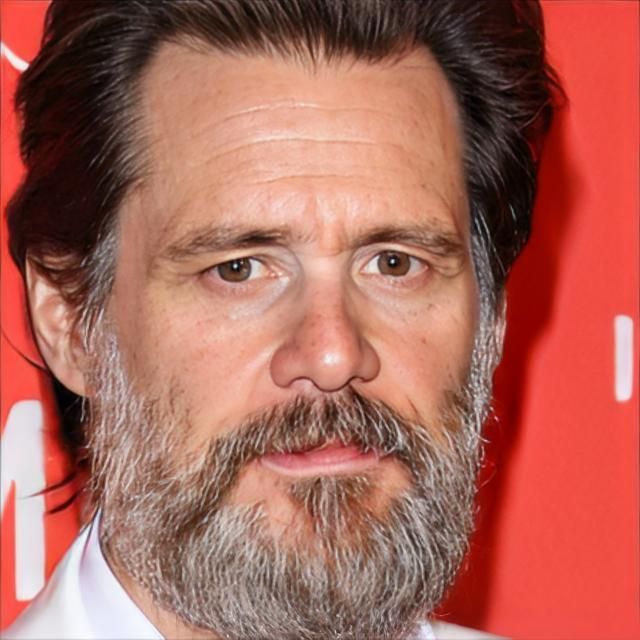neutral: (96, 25, 488, 606)
